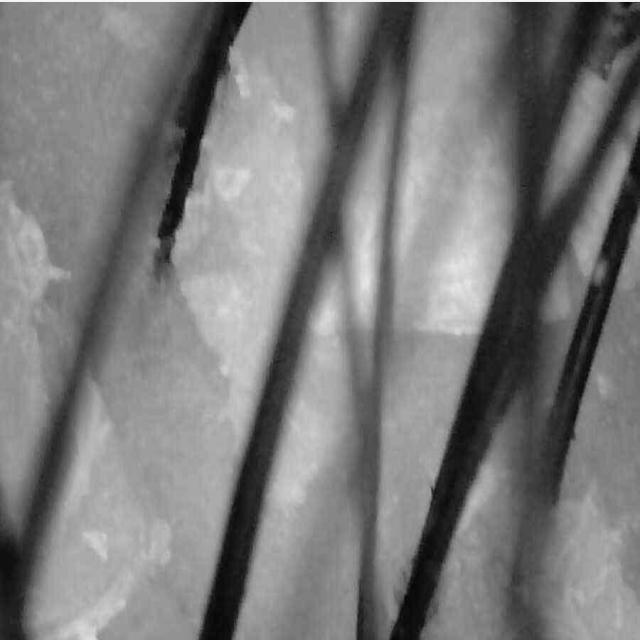d: (229, 45, 250, 98), (81, 531, 108, 562)
